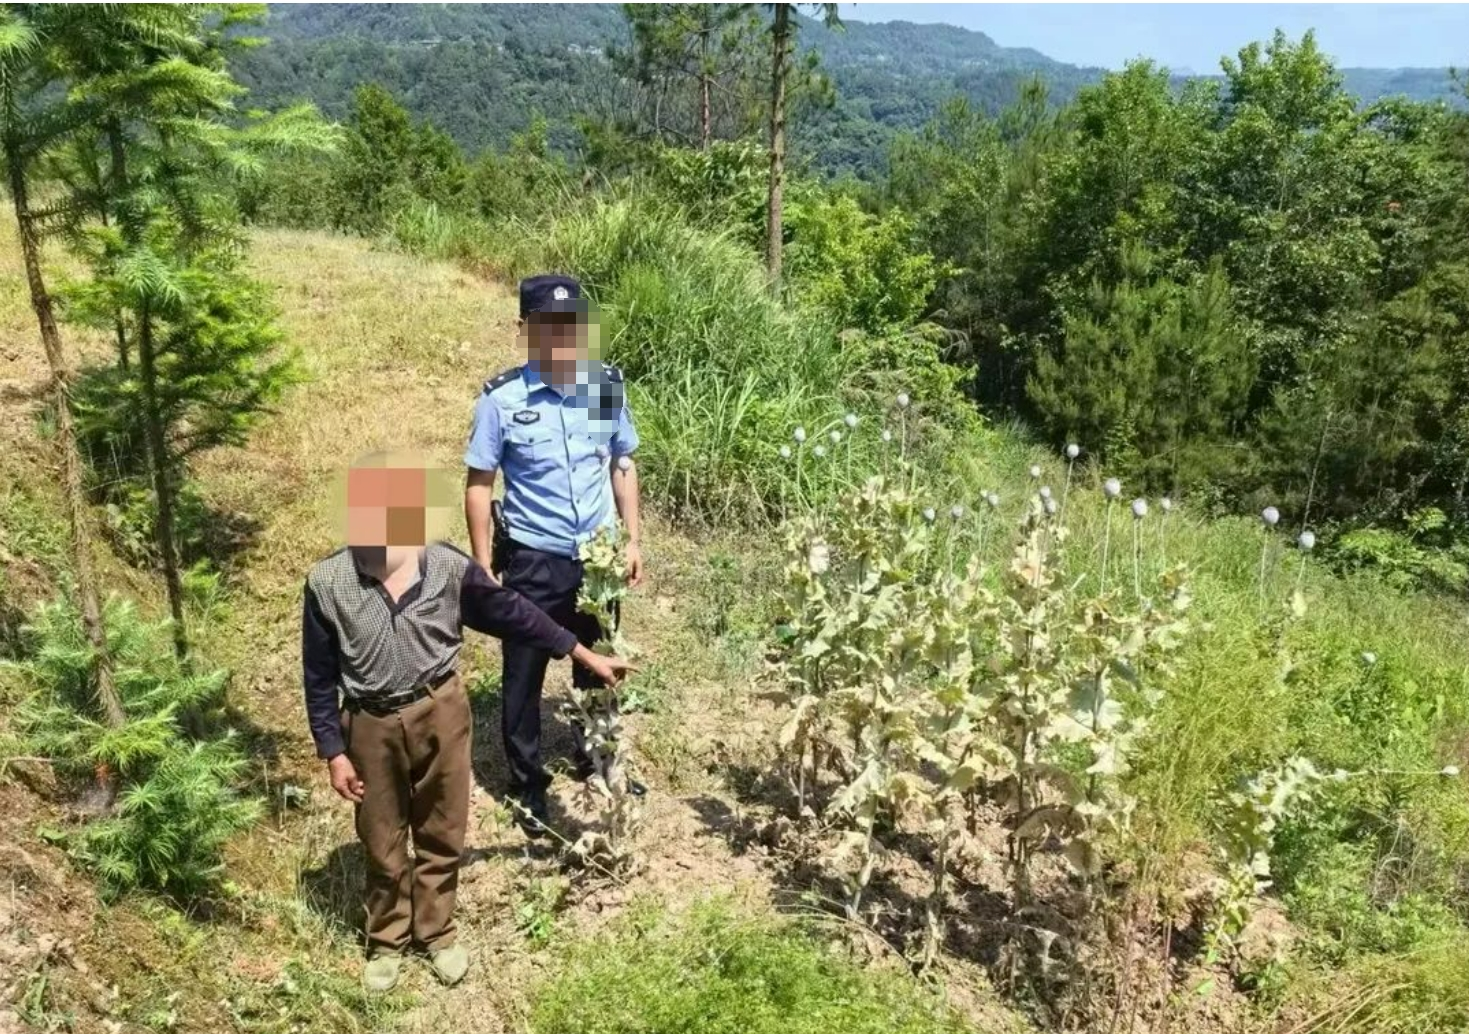Poppy: (753, 386, 1340, 977)
